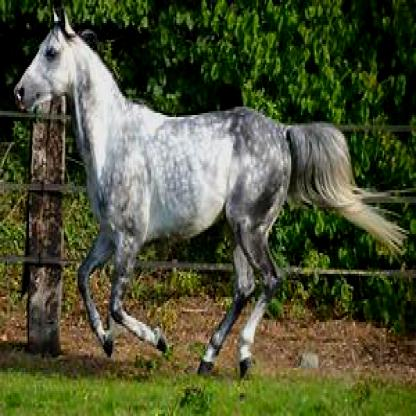horse: (13, 6, 354, 378)
